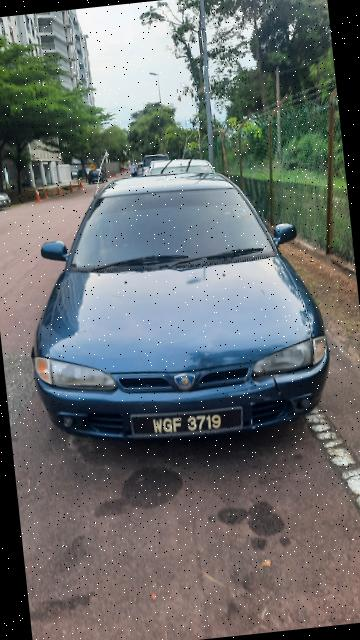License_Plate: (125, 398, 248, 449)
car: (6, 147, 344, 463)
